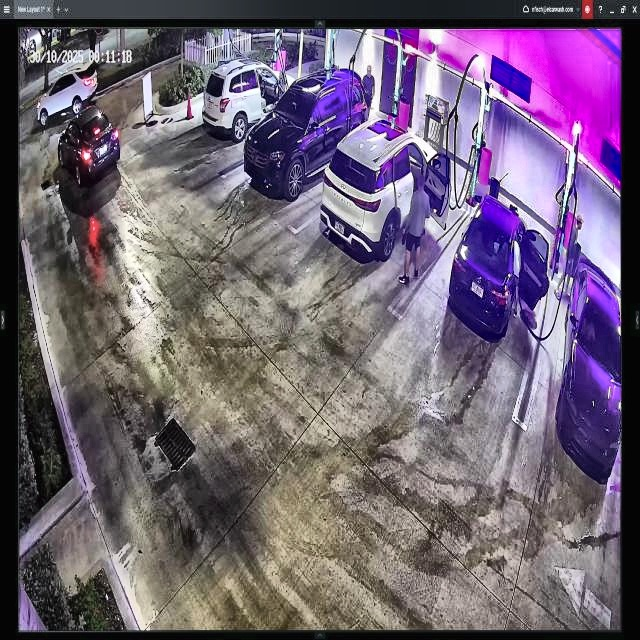Car: (322, 122, 446, 255), (244, 68, 367, 190), (450, 196, 548, 342), (204, 60, 294, 141)
